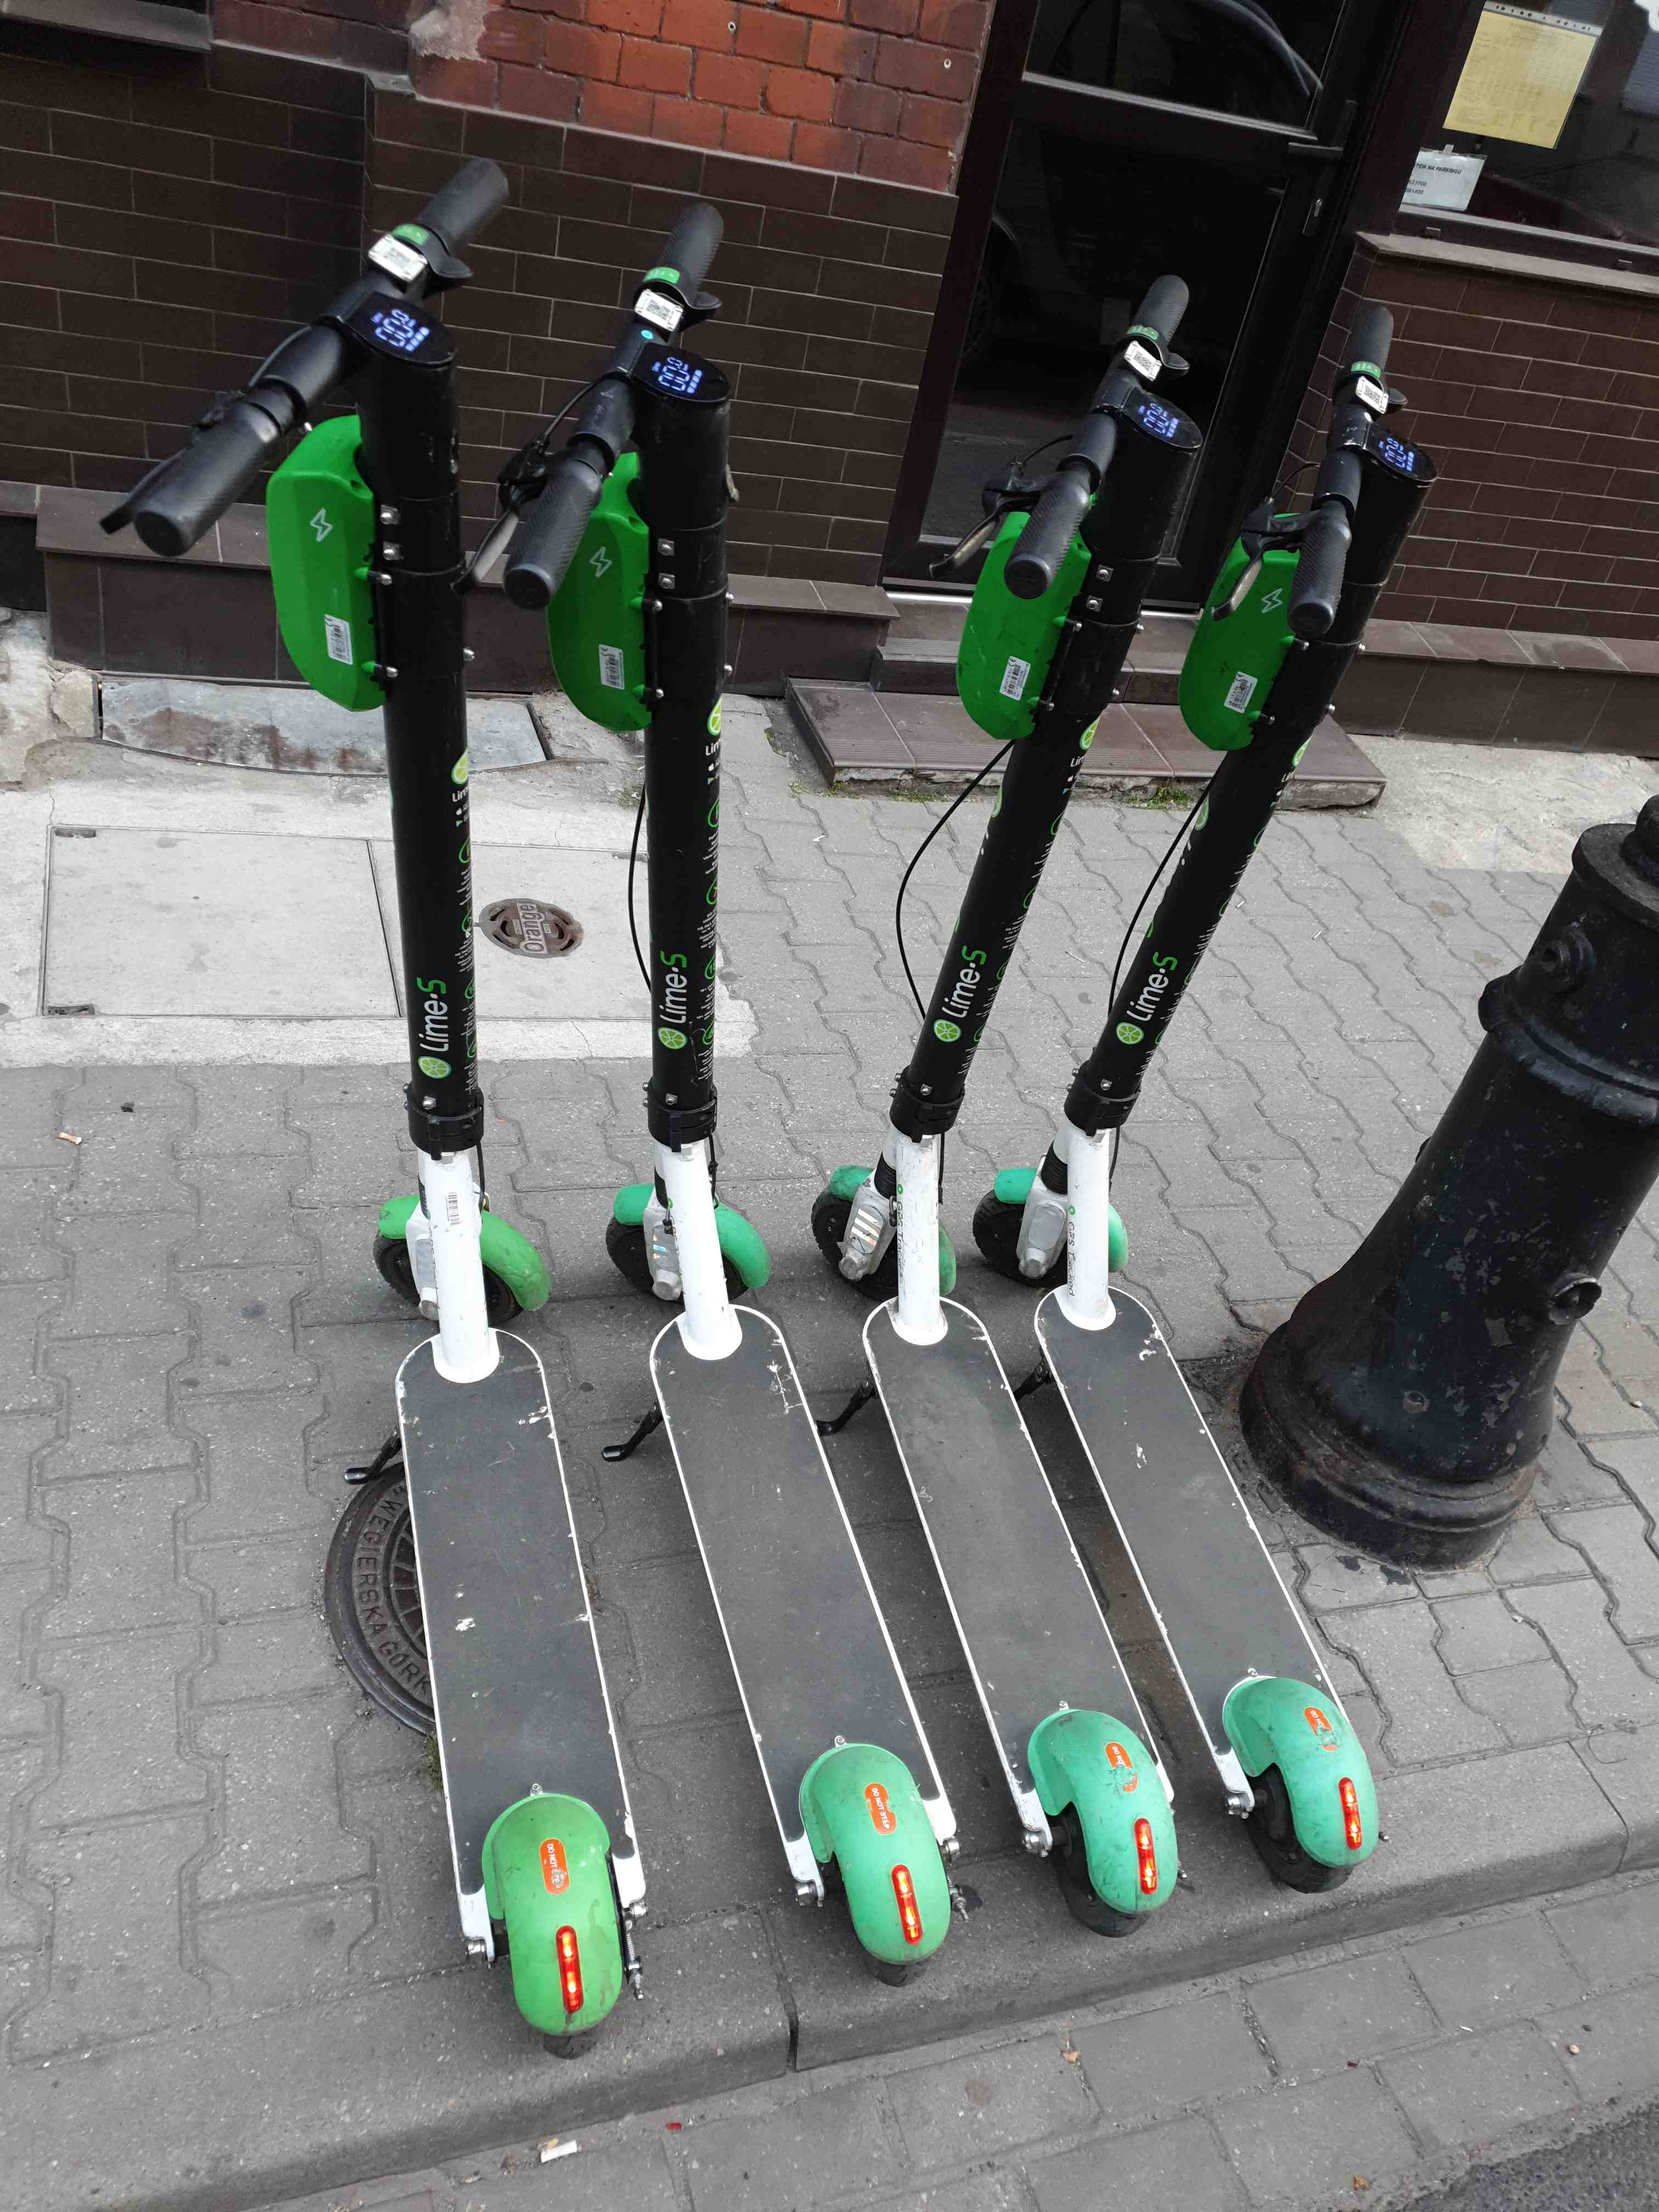too close: (369, 1770, 699, 2177), (711, 1743, 1035, 2137), (1182, 1660, 1486, 1989), (967, 1700, 1239, 2041)
